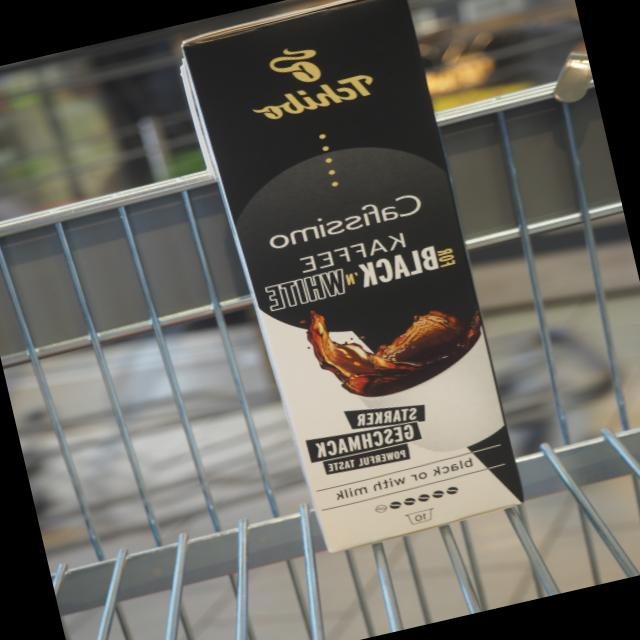Simo Kaffee BW: (181, 0, 530, 560)
